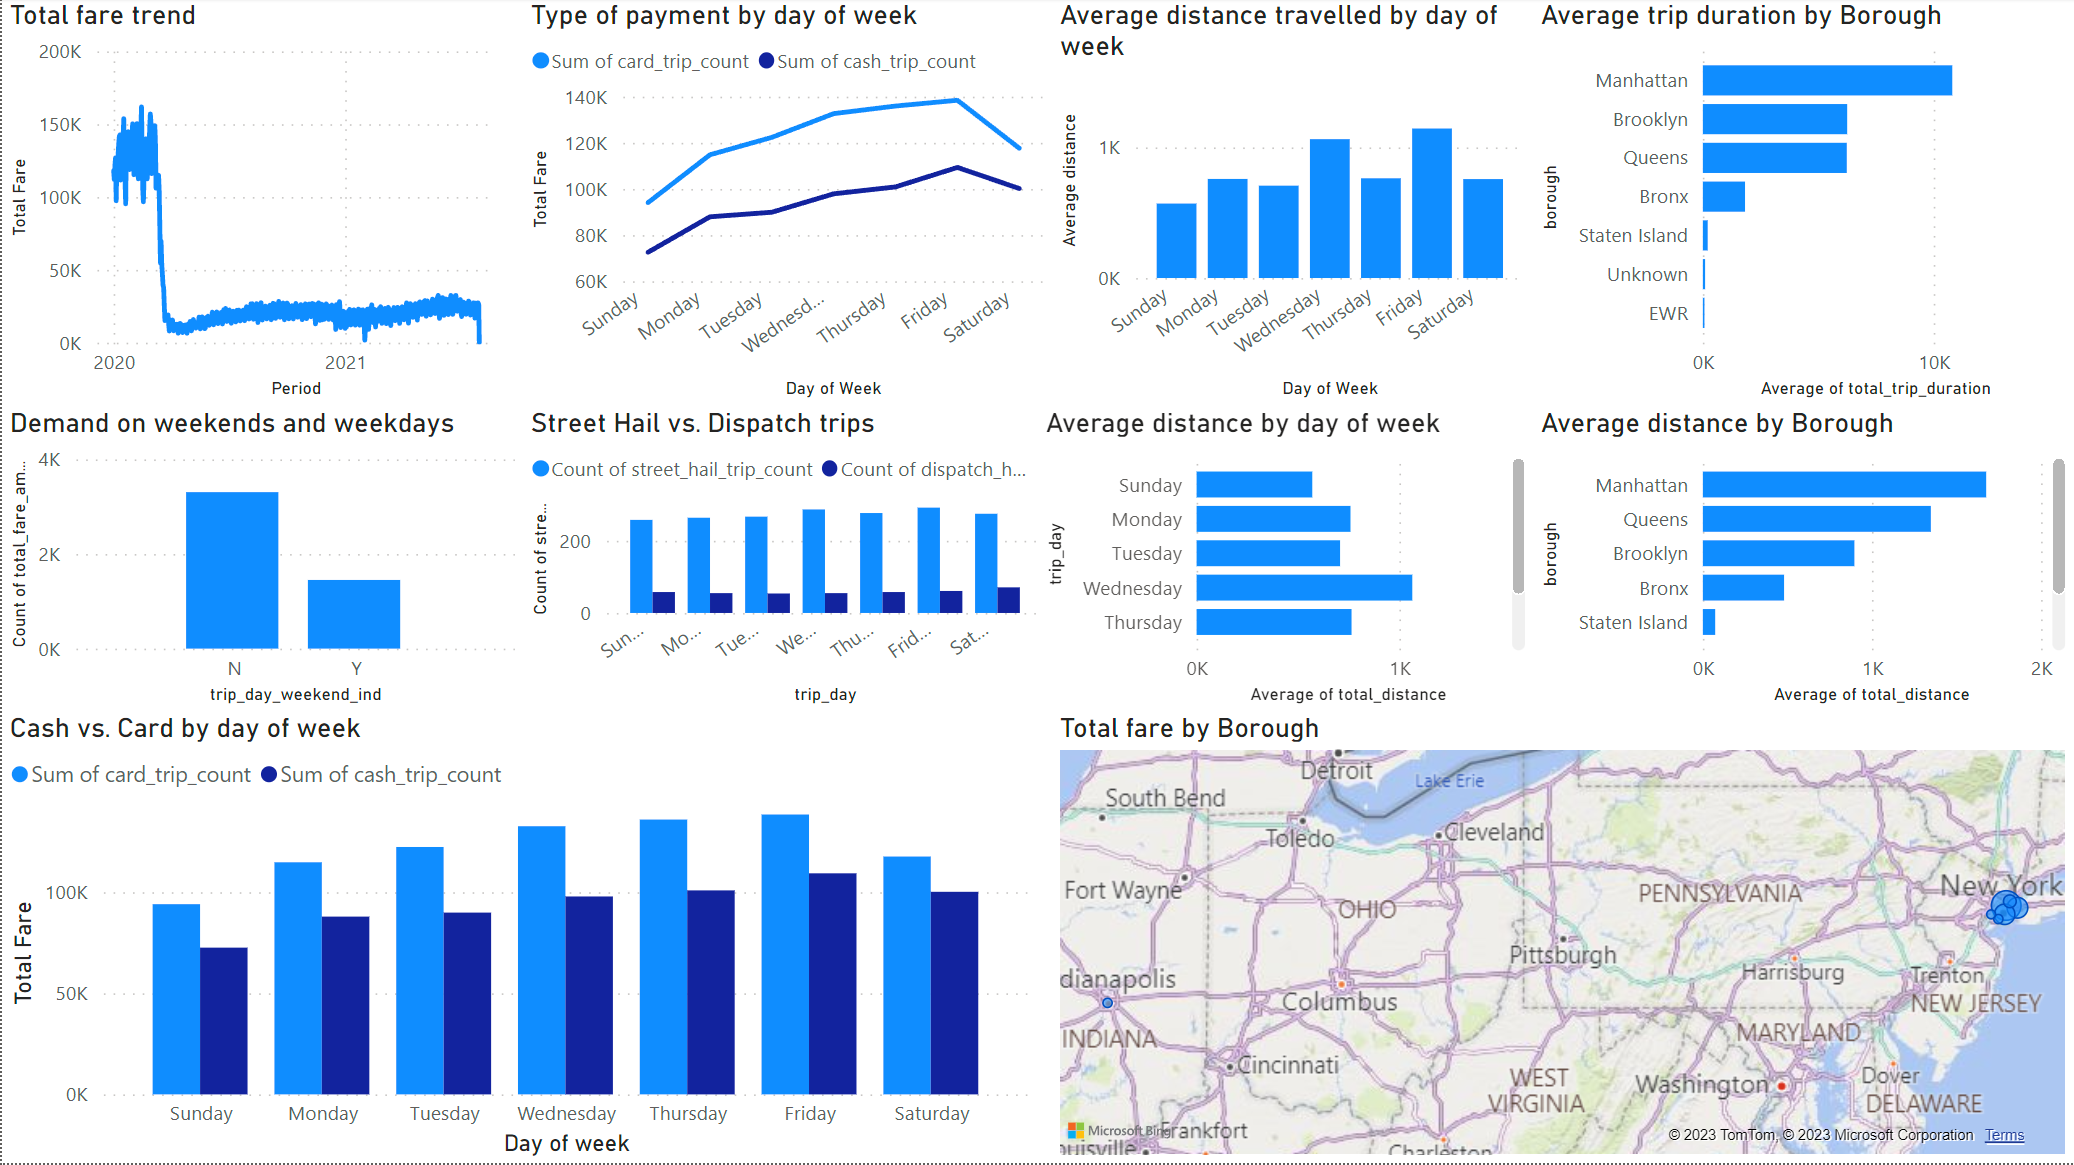

This screenshot's page, from the dashboard's own definition file:
{"tool":"powerbi","page":{"name":"Page 1","canvas":[1280,720],"ordinal":0},"visuals":[{"type":"lineChart","title":"Total fare trend","fields":{"Category":["gold vw_trip_data_green.trip_date"],"Y":["Sum(gold vw_trip_data_green.total_fare_amount)"]},"box":[0,0,322,252.2],"z":0},{"type":"clusteredColumnChart","title":"Cash vs. Card by day of week","fields":{"Category":["gold vw_trip_data_green.trip_day"],"Y":["Sum(gold vw_trip_data_green.card_trip_count)","Sum(gold vw_trip_data_green.cash_trip_count)"]},"box":[0,440.7,640.3,280],"z":1000},{"type":"map","title":"Total fare by Borough","fields":{"Category":["gold vw_trip_data_green.borough"],"Size":["Sum(gold vw_trip_data_green.total_fare_amount)"]},"box":[648.9,440.7,631,279.3],"z":2000},{"type":"clusteredColumnChart","title":"Average distance travelled by day of week","fields":{"Category":["gold vw_trip_data_green.trip_day"],"Y":["Avg(gold vw_trip_data_green.total_distance)"]},"box":[648.9,0,296.7,252.2],"z":3000},{"type":"lineChart","title":"Type of payment by day of week","fields":{"Category":["gold vw_trip_data_green.trip_day"],"Y":["Sum(gold vw_trip_data_green.card_trip_count)","Sum(gold vw_trip_data_green.cash_trip_count)"]},"box":[322,0,326.9,252.2],"z":4000},{"type":"columnChart","title":"Demand on weekends and weekdays","fields":{"Category":["gold vw_trip_data_green.trip_day_weekend_ind"],"Y":["Count(gold vw_trip_data_green.total_fare_amount)"]},"box":[0,252.2,321.9,188.8],"z":5000},{"type":"clusteredColumnChart","title":"Street Hail vs. Dispatch trips","fields":{"Category":["gold vw_trip_data_green.trip_day"],"Y":["Count(gold vw_trip_data_green.street_hail_trip_count)","Count(gold vw_trip_data_green.dispatch_hail_trip_count)"]},"box":[321.9,252.2,327,188.8],"z":6000},{"type":"clusteredBarChart","title":"Average trip duration by Borough","fields":{"Category":["gold vw_trip_data_green.borough"],"Y":["Avg(gold vw_trip_data_green.total_trip_duration)"]},"box":[945.9,0,334.1,252.2],"z":7000},{"type":"clusteredBarChart","title":"Average distance by Borough","fields":{"Category":["gold vw_trip_data_green.borough"],"Y":["Avg(gold vw_trip_data_green.total_distance)"]},"box":[945.9,252.2,334.1,188.8],"z":8000},{"type":"clusteredBarChart","title":"Average distance by day of week","fields":{"Y":["Avg(gold vw_trip_data_green.total_distance)"],"Category":["gold vw_trip_data_green.trip_day"]},"box":[640,252.2,305.9,188.8],"z":9000}]}

Visuals, with their boxes in screenshot pixels (x1, y1, x2, y2), scaled from the page's 1280x720 canvas onto the 2074x1165 screenshot:
"Total fare trend" lineChart: (x1=0, y1=0, x2=522, y2=408)
"Cash vs. Card by day of week" clusteredColumnChart: (x1=0, y1=713, x2=1037, y2=1164)
"Total fare by Borough" map: (x1=1051, y1=713, x2=2073, y2=1164)
"Average distance travelled by day of week" clusteredColumnChart: (x1=1051, y1=0, x2=1532, y2=408)
"Type of payment by day of week" lineChart: (x1=522, y1=0, x2=1051, y2=408)
"Demand on weekends and weekdays" columnChart: (x1=0, y1=408, x2=522, y2=714)
"Street Hail vs. Dispatch trips" clusteredColumnChart: (x1=522, y1=408, x2=1051, y2=714)
"Average trip duration by Borough" clusteredBarChart: (x1=1533, y1=0, x2=2073, y2=408)
"Average distance by Borough" clusteredBarChart: (x1=1533, y1=408, x2=2073, y2=714)
"Average distance by day of week" clusteredBarChart: (x1=1037, y1=408, x2=1533, y2=714)
